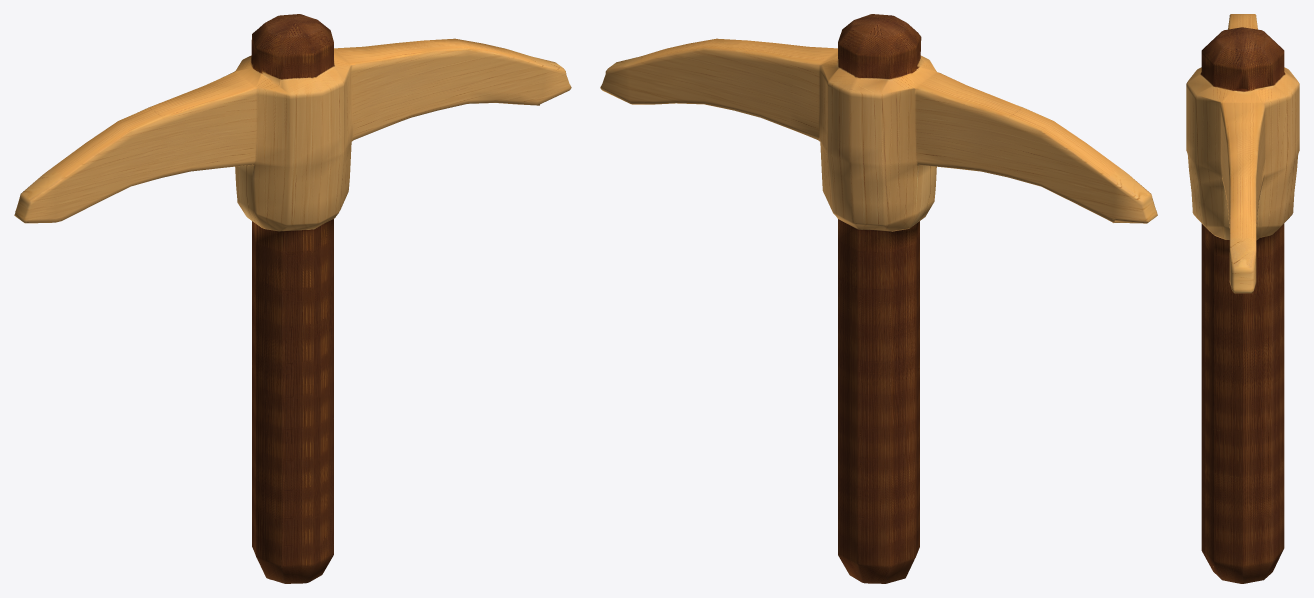
File: Pickaxe_Wood.fbx
3 renders of one model, left to right at view 1: azimuth 30°, elevation 25°; view 2: azimuth 150°, elevation 25°; view 3: azimuth 270°, elevation 25°, orthographic. The views are drawn at different scales.
Visible parts, largest first — view 1: Mesh_0; view 2: Mesh_0; view 3: Mesh_0.
Part boxes in pixels (x1=…): Mesh_0: x1=14, y1=14, x2=571, y2=583; Mesh_0: x1=600, y1=14, x2=1157, y2=583; Mesh_0: x1=1186, y1=14, x2=1299, y2=583.
Size of the model in its own units: 191 by 186 by 34.83.
Materials: 1 (1 with a texture image).
